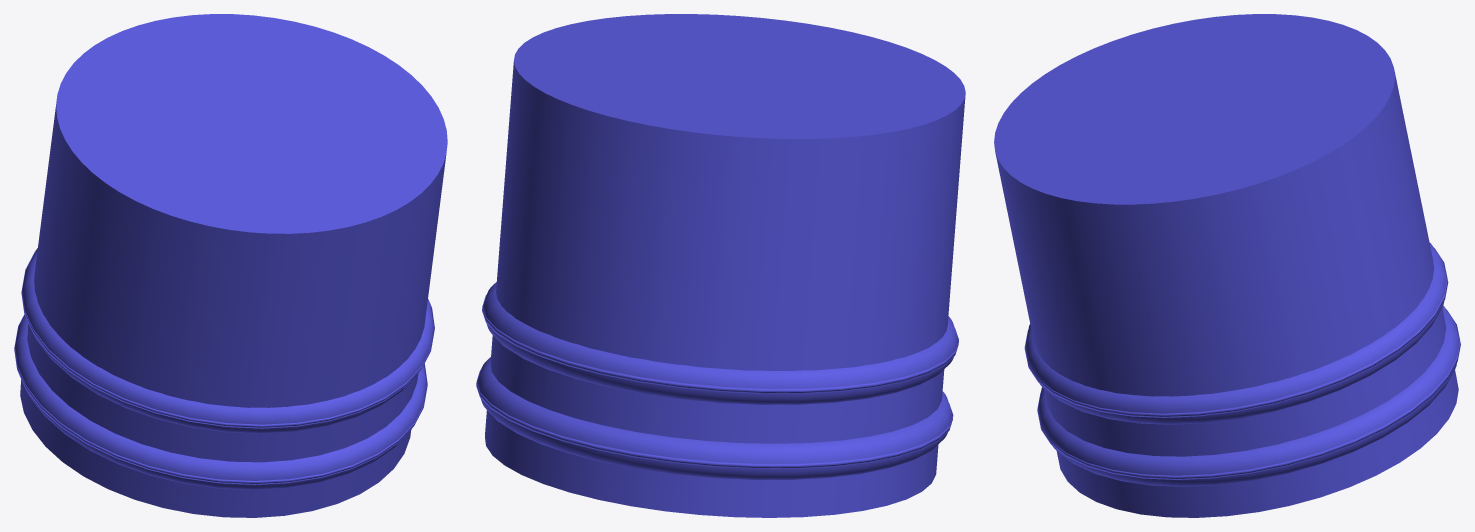
Rendered from bombilla210.obj.
3 renders of one model, left to right at view 1: azimuth 30°, elevation 25°; view 2: azimuth 150°, elevation 25°; view 3: azimuth 270°, elevation 25°, orthographic. The views are drawn at different scales.
Parts seen in each view (by area): view 1: Cylinder001, Cylinder004, Cylinder002, Cylinder003, Cylinder006; view 2: Cylinder001, Cylinder003, Cylinder004, Cylinder006, Cylinder002; view 3: Cylinder001, Cylinder004, Cylinder003, Cylinder002, Cylinder006.
Part boxes in pixels (x1,y1,x2,y2): Cylinder001: (34, 14, 447, 407); Cylinder004: (14, 314, 427, 489); Cylinder002: (21, 248, 434, 433); Cylinder003: (27, 323, 418, 462); Cylinder006: (20, 379, 411, 517); Cylinder001: (496, 14, 965, 370); Cylinder003: (490, 335, 944, 443); Cylinder004: (476, 357, 953, 479); Cylinder006: (485, 410, 938, 517); Cylinder002: (482, 282, 958, 404); Cylinder001: (994, 14, 1433, 396); Cylinder004: (1037, 305, 1460, 486); Cylinder003: (1044, 308, 1446, 456); Cylinder002: (1024, 243, 1448, 424); Cylinder006: (1056, 370, 1458, 517).
Bounding box in the file's own units: 72.45 × 70.96 × 78.43.
